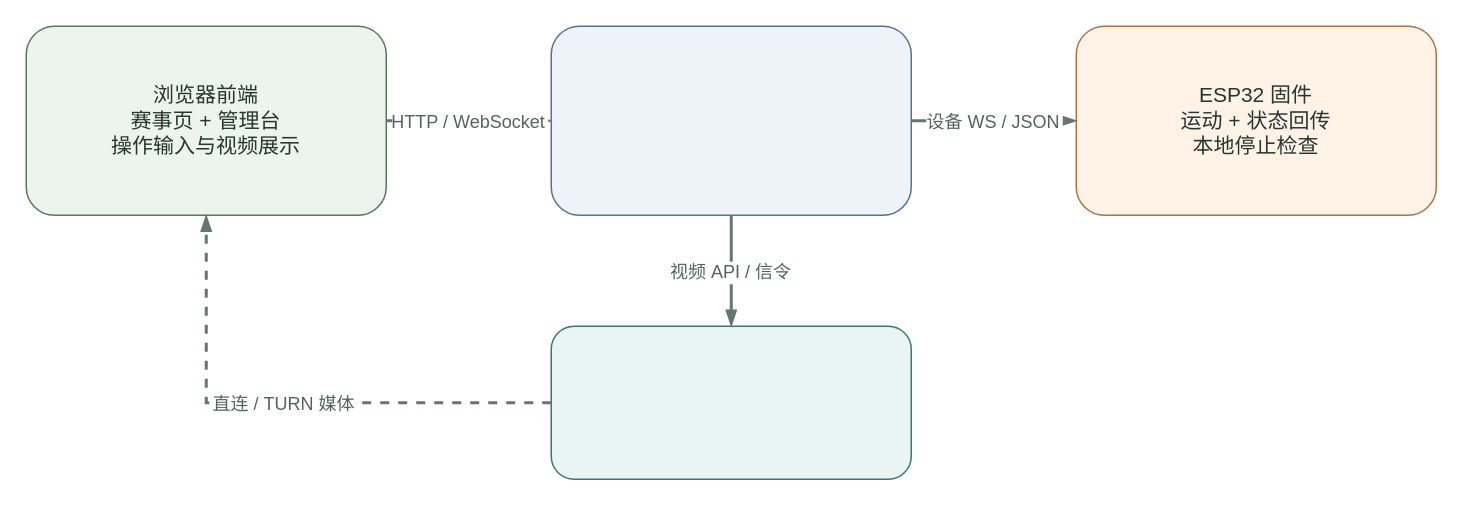
This 1463x506 diagram has some shape labels left out. Each missing label, with the centre of its shape:
Go 服务 账号 + 赛事状态 控制准入 + API: (730,120)
Python 视频 相机 + WebRTC + 录像: (730,402)
